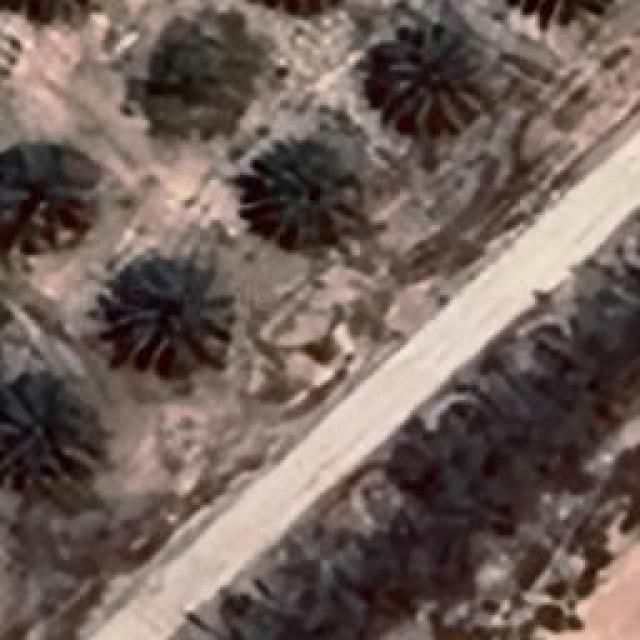PalmTree: (113, 258, 230, 372), (2, 140, 102, 260), (144, 24, 252, 134), (373, 24, 476, 134), (0, 380, 98, 490), (245, 155, 353, 243), (498, 0, 622, 35), (0, 0, 117, 32)
